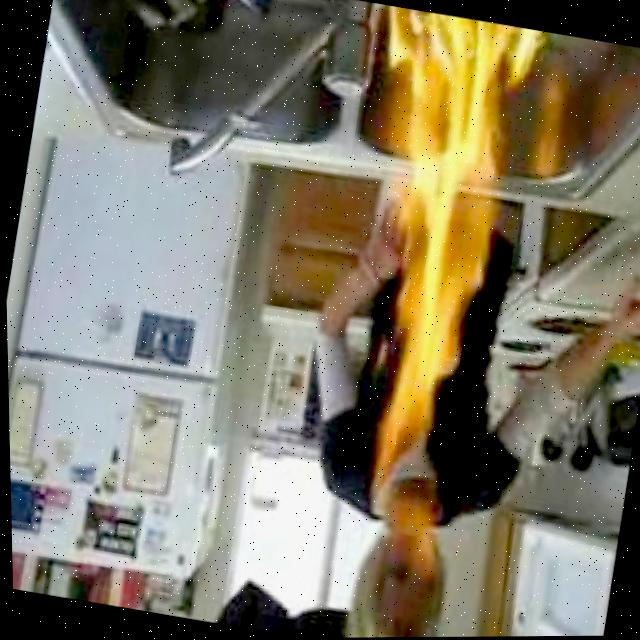Fire: (319, 6, 533, 481)
